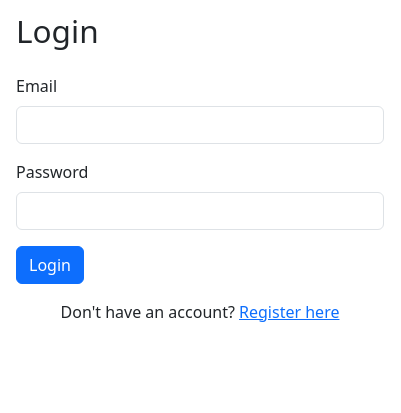
Test: shows an error alert when login fails
Step 1. Type "bad@test.com" into the field labelled "Email" → [200, 125], box [16,106,384,144]
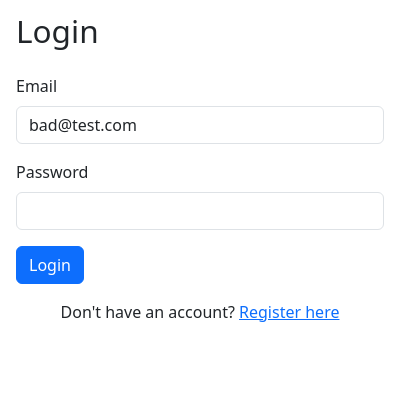
Step 2. Type "wrongpass" into the password field labelled "Password" → [200, 211], box [16,192,384,230]
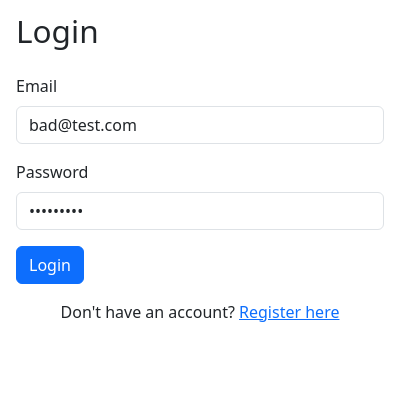
Step 3. Click the button "Login" → [50, 265], box [16,246,84,284]
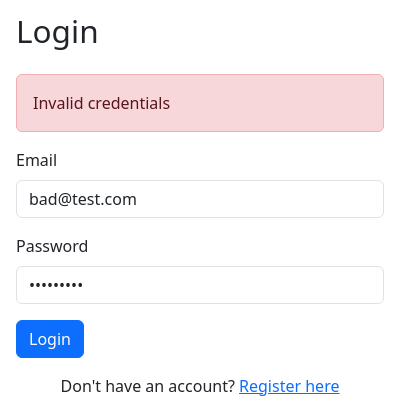
Result: the message reads "Invalid credentials" at [33,92,170,114]
